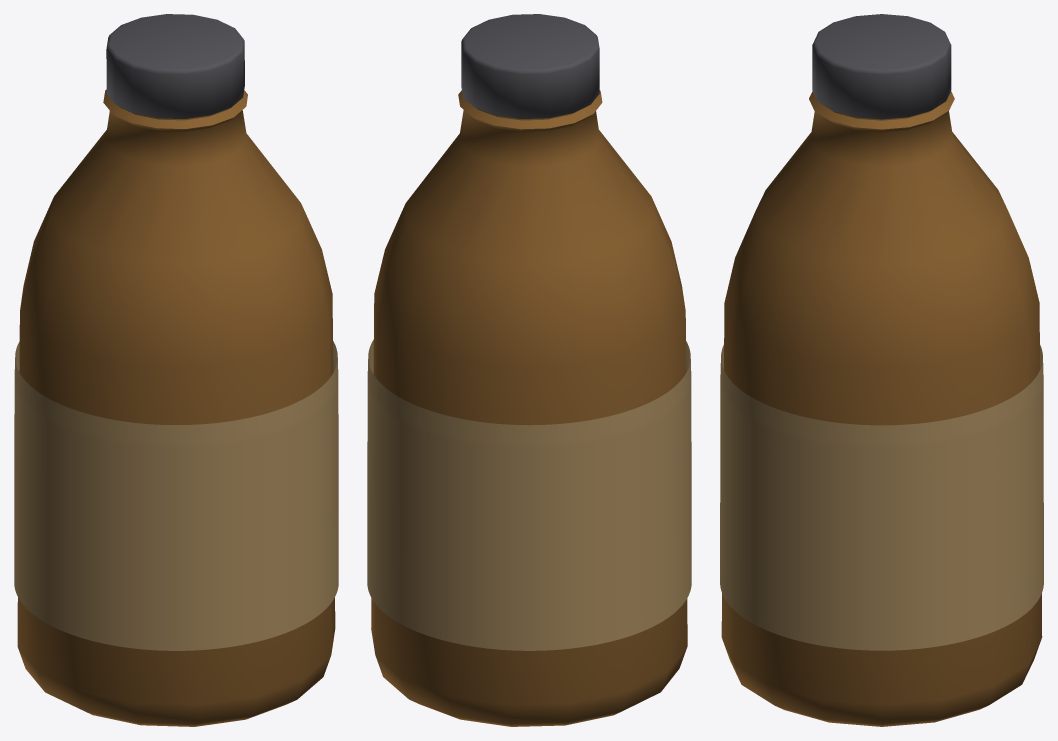
File: v2_growler_wrap_minimal.glb
3 renders of one model, left to right at view 1: azimuth 30°, elevation 25°; view 2: azimuth 150°, elevation 25°; view 3: azimuth 270°, elevation 25°, orthographic.
Parts seen in each view (by area): view 1: Glass, Label_band, Cap; view 2: Glass, Label_band, Cap; view 3: Glass, Label_band, Cap.
Part boxes in pixels (x1,y1,x2,y2): Glass: [17, 89, 335, 726]; Label_band: [14, 341, 338, 650]; Cap: [106, 14, 244, 118]; Glass: [371, 90, 687, 726]; Label_band: [367, 339, 691, 650]; Cap: [461, 14, 599, 118]; Glass: [721, 91, 1042, 726]; Label_band: [720, 345, 1043, 650]; Cap: [812, 14, 951, 119].
Size of the model in its own units: 0.1018 by 0.2172 by 0.1018.
